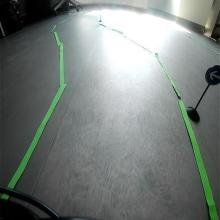left: (205, 63, 220, 86)
